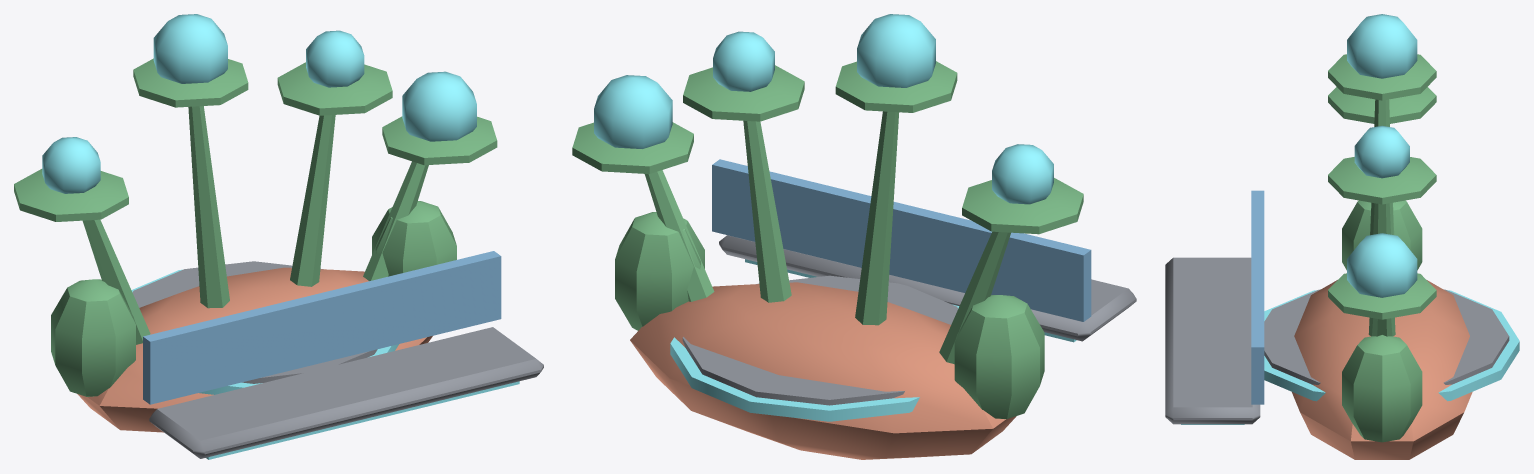
File: CalleJardinera.fbx
3 renders of one model, left to right at view 1: azimuth 30°, elevation 25°; view 2: azimuth 150°, elevation 25°; view 3: azimuth 270°, elevation 25°, orthographic. The views are drawn at different scales.
Visible parts, largest first — view 1: CalleJardinera_Base_Hoja, CalleJardinera_Base_Cristal, CalleJardinera_Base_Metal, CalleJardinera_Base_Luz, CalleJardinera_Base_Cuerpo; view 2: CalleJardinera_Base_Hoja, CalleJardinera_Base_Cuerpo, CalleJardinera_Base_Cristal, CalleJardinera_Base_Luz, CalleJardinera_Base_Metal; view 3: CalleJardinera_Base_Hoja, CalleJardinera_Base_Metal, CalleJardinera_Base_Cuerpo, CalleJardinera_Base_Luz, CalleJardinera_Base_Cristal.
Part boxes in pixels (bbox=[...]): CalleJardinera_Base_Hoja: bbox=[14, 58, 497, 396]; CalleJardinera_Base_Cristal: bbox=[143, 251, 501, 404]; CalleJardinera_Base_Metal: bbox=[132, 261, 543, 458]; CalleJardinera_Base_Luz: bbox=[42, 14, 519, 459]; CalleJardinera_Base_Cuerpo: bbox=[77, 267, 432, 432]; CalleJardinera_Base_Hoja: bbox=[572, 61, 1083, 419]; CalleJardinera_Base_Cuerpo: bbox=[630, 282, 1016, 459]; CalleJardinera_Base_Cristal: bbox=[712, 159, 1091, 321]; CalleJardinera_Base_Luz: bbox=[594, 14, 1076, 421]; CalleJardinera_Base_Metal: bbox=[682, 235, 1136, 405]; CalleJardinera_Base_Hoja: bbox=[1328, 54, 1436, 442]; CalleJardinera_Base_Metal: bbox=[1165, 257, 1509, 424]; CalleJardinera_Base_Cuerpo: bbox=[1292, 280, 1472, 459]; CalleJardinera_Base_Luz: bbox=[1181, 14, 1519, 424]; CalleJardinera_Base_Cristal: bbox=[1251, 190, 1264, 404].
Bounding box in the file's own units: 940 × 787 × 670.
